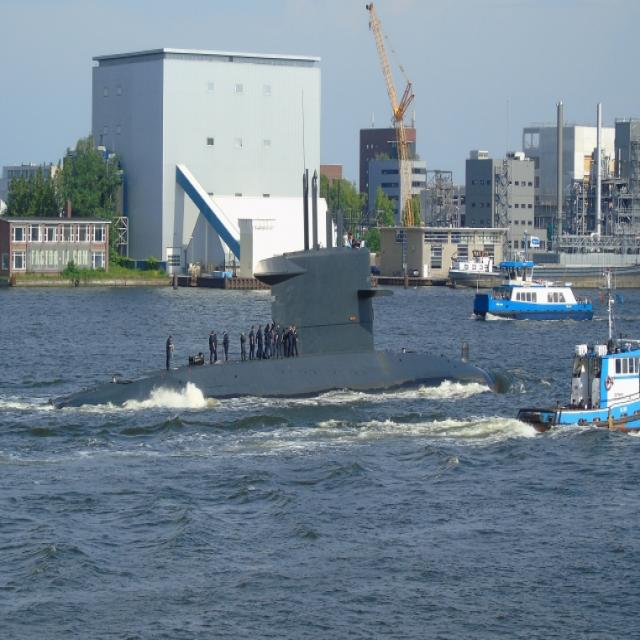submarine: (44, 166, 492, 408)
